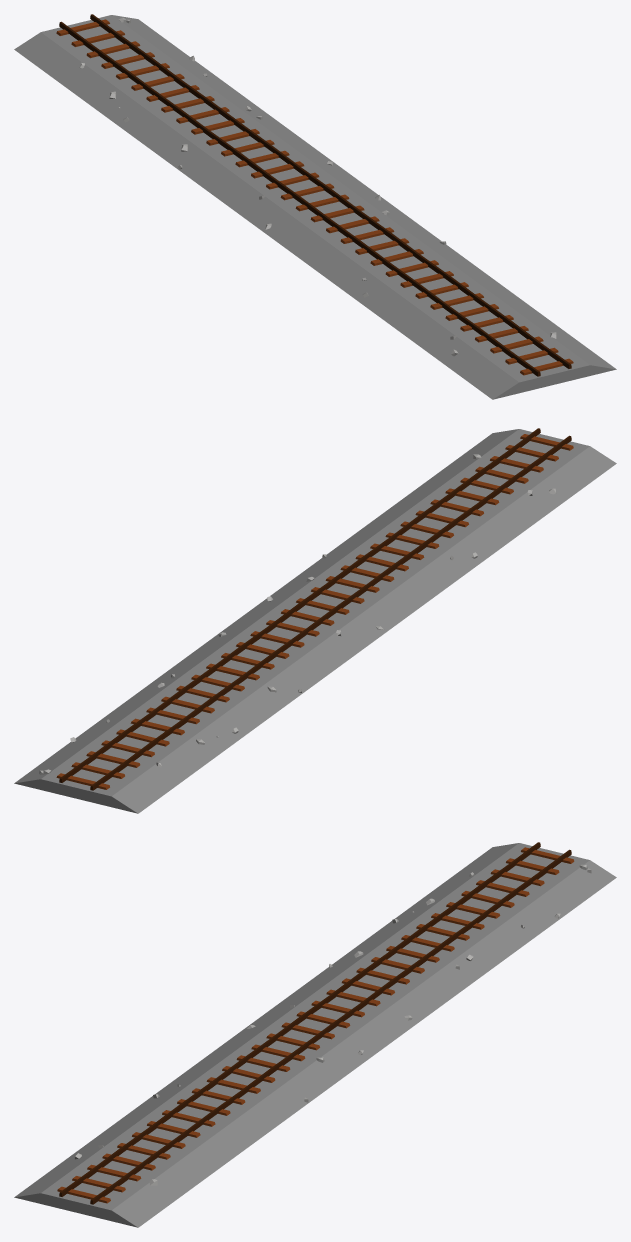
File: TrainTracks.149256f0.glb
The picture shows the model from 3 angles, top to bottom: view 1: azimuth 30°, elevation 25°; view 2: azimuth 150°, elevation 25°; view 3: azimuth 330°, elevation 25°; orthographic projection.
Parts seen in each view (by area): view 1: rail-straight-bottom.016; view 2: rail-straight-bottom.016; view 3: rail-straight-bottom.016.
Part boxes in pixels (x1=…): rail-straight-bottom.016: x1=14, y1=14, x2=616, y2=399; rail-straight-bottom.016: x1=14, y1=428, x2=616, y2=813; rail-straight-bottom.016: x1=14, y1=842, x2=616, y2=1227.
Size of the model in its own units: 24.02 by 3.36 by 160.
Materials: 1 (1 with a texture image).
